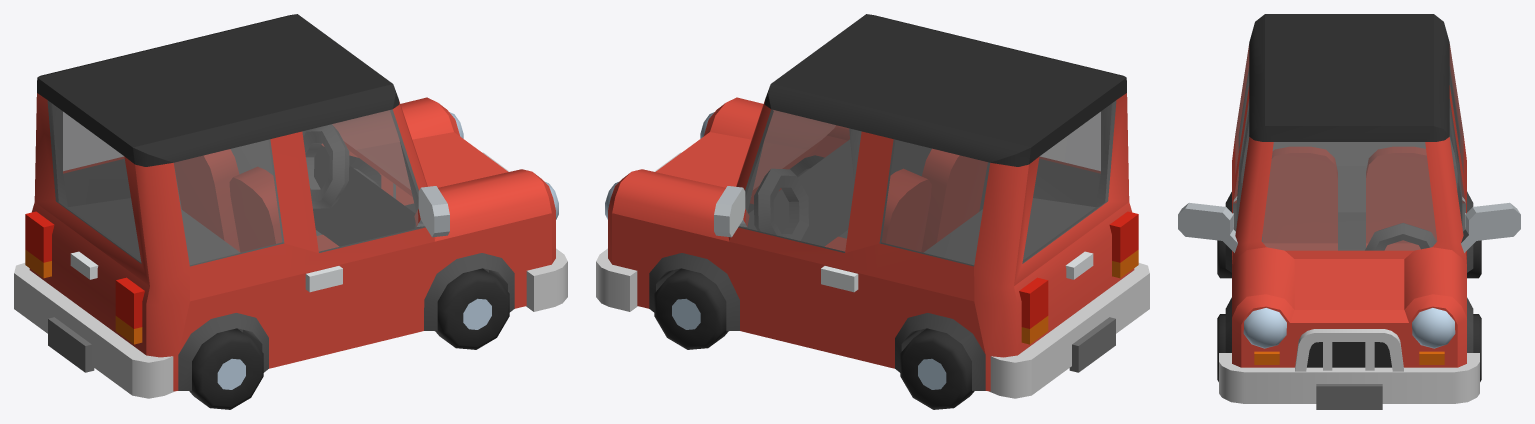
File: car01_s02.FBX
The picture shows the model from 3 angles, left to right: view 1: azimuth 30°, elevation 25°; view 2: azimuth 150°, elevation 25°; view 3: azimuth 270°, elevation 25°; orthographic projection. The views are drawn at different scales.
Visible parts, largest first — view 1: car01_s02; view 2: car01_s02; view 3: car01_s02.
Part boxes in pixels (x1,y1,x2,y2): car01_s02: (14,14,567,409); car01_s02: (596,14,1149,409); car01_s02: (1178,14,1520,409).
Size of the model in its own units: 271 by 152 by 205.
